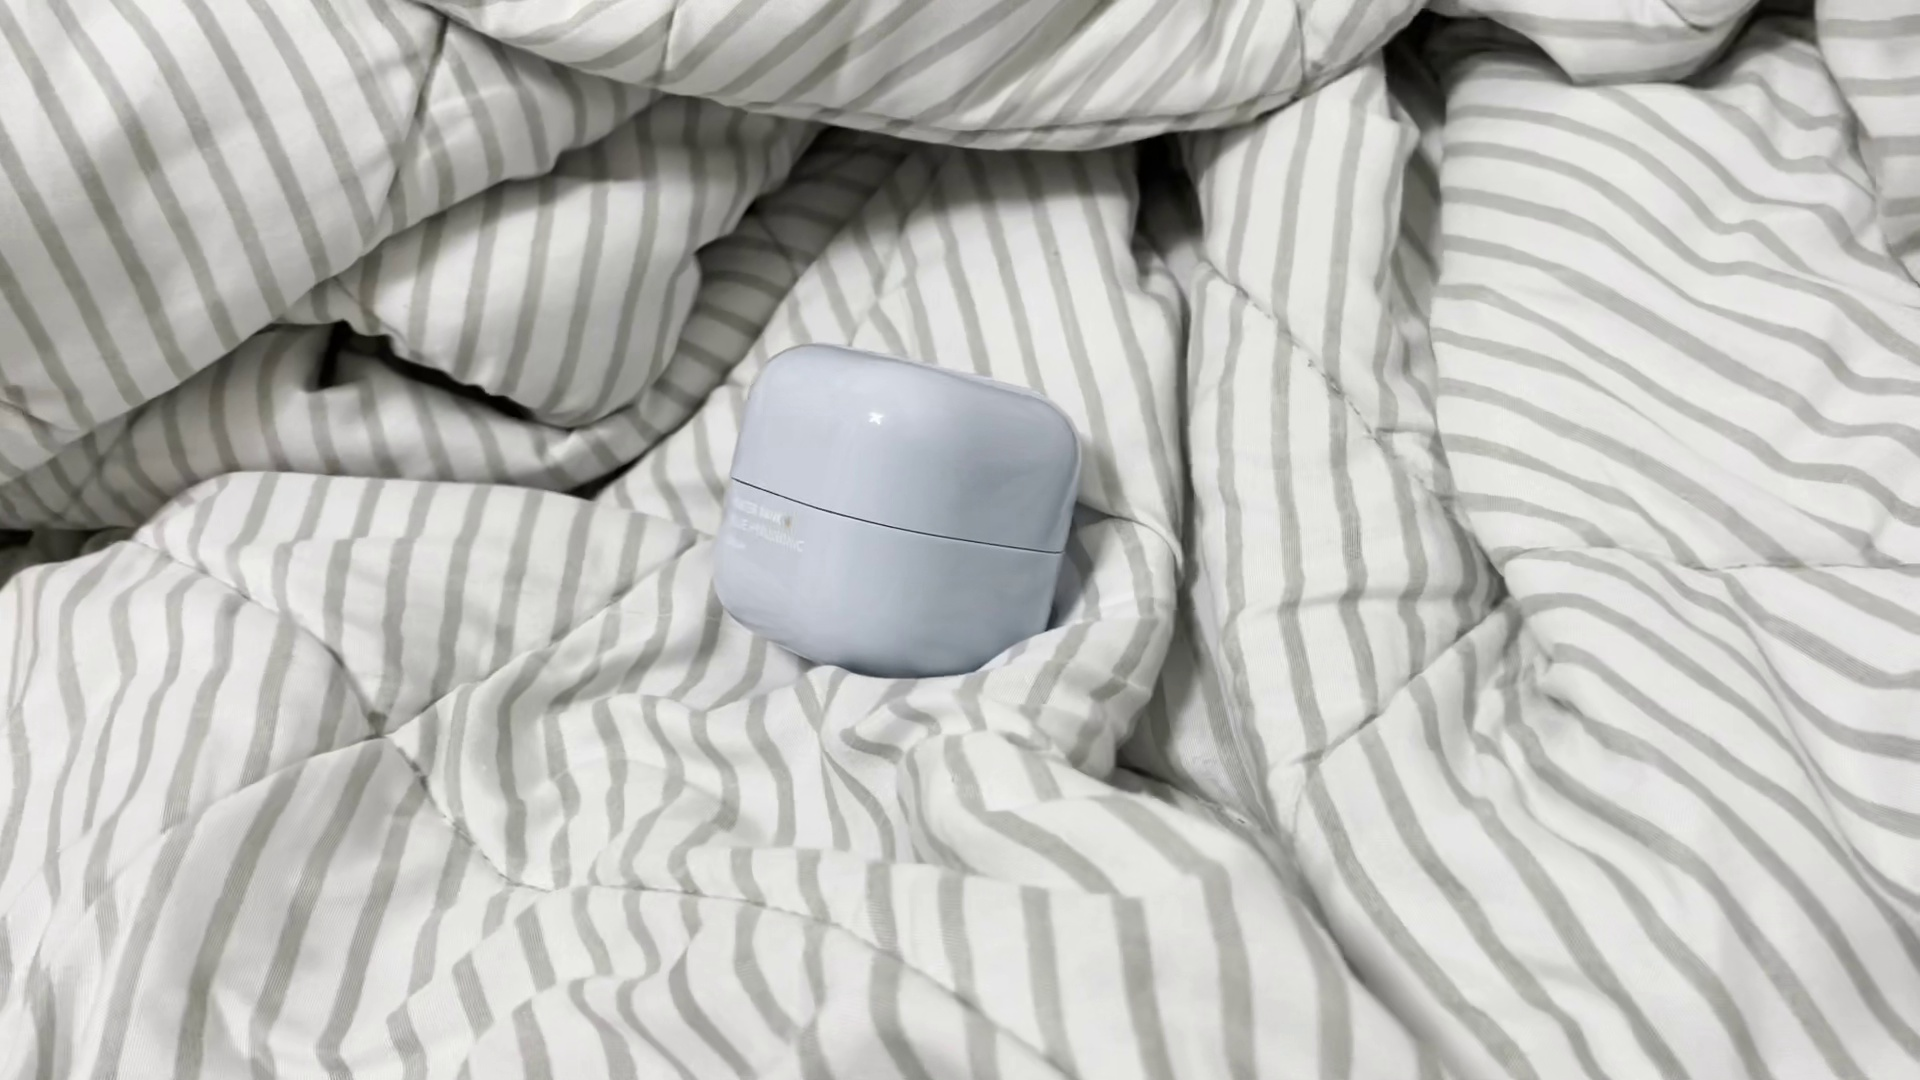cream: (716, 343, 1081, 670)
